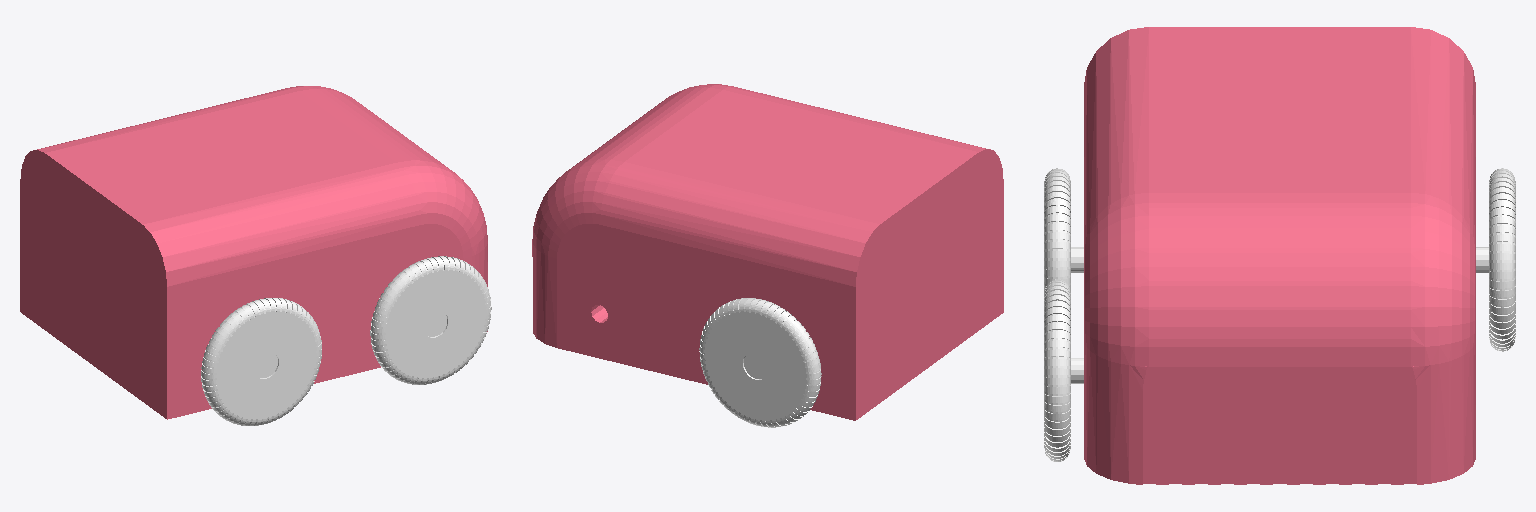
robot.urdf — car:
<?xml version="1.0" encoding="utf-8"?>
<!-- This URDF was automatically created by SolidWorks to URDF Exporter! Originally created by Stephen Brawner (brawner@gmail.com) 
     Commit Version: 1.5.1-0-g916b5db  Build Version: 1.5.7152.31018
     For more information, please see http://wiki.ros.org/sw_urdf_exporter -->
<robot
  name="car">
  <link
    name="base_link">
    <inertial>
      <origin
        xyz="-0.00249943453803799 0.0399999997445289 -0.00222169952839942"
        rpy="0 0 0" />
      <mass
        value="0.0227065289765593" />
      <inertia
        ixx="2.34933598437368E-06"
        ixy="8.78425326495881E-14"
        ixz="7.83844178652788E-08"
        iyy="3.58208725136644E-06"
        iyz="4.30958621134321E-15"
        izz="4.4937142573437E-06" />
    </inertial>
    <visual>
      <origin
        xyz="0 0 0"
        rpy="0 0 0" />
      <geometry>
        <mesh
          filename="package://car/meshes/base_link.STL" />
      </geometry>
      <material
        name="">
        <color
          rgba="1 0.498039215686275 0.607843137254902 1" />
      </material>
    </visual>
    <collision>
      <origin
        xyz="0 0 0"
        rpy="0 0 0" />
      <geometry>
        <mesh
          filename="package://car/meshes/base_link.STL" />
      </geometry>
    </collision>
  </link>
  <link
    name="wheel_fl">
    <inertial>
      <origin
        xyz="-2.34524812764425E-11 -2.75173639163045E-07 0.00581344851870749"
        rpy="0 0 0" />
      <mass
        value="0.000301526530521617" />
      <inertia
        ixx="3.6039936402072E-09"
        ixy="-1.52160111633009E-20"
        ixz="4.51029933620484E-20"
        iyy="3.60399355257099E-09"
        iyz="1.54764413864999E-14"
        izz="6.60047728637718E-09" />
    </inertial>
    <visual>
      <origin
        xyz="0 0 0"
        rpy="0 0 0" />
      <geometry>
        <mesh
          filename="package://car/meshes/wheel_fl.STL" />
      </geometry>
      <material
        name="">
        <color
          rgba="1 1 1 1" />
      </material>
    </visual>
    <collision>
      <origin
        xyz="0 0 0"
        rpy="0 0 0" />
      <geometry>
        <mesh
          filename="package://car/meshes/wheel_fl.STL" />
      </geometry>
    </collision>
  </link>
  <joint
    name="joint_1"
    type="continuous">
    <origin
      xyz="0.00814423436974416 0.051 -0.00687734430037481"
      rpy="1.5707963267949 0 3.14159265358979" />
    <parent
      link="base_link" />
    <child
      link="wheel_fl" />
    <axis
      xyz="0 0 1" />
  </joint>
  <link
    name="wheel_fr">
    <inertial>
      <origin
        xyz="-2.24263194820162E-11 -2.75173585173247E-07 -0.00118655148151145"
        rpy="0 0 0" />
      <mass
        value="0.00030152653049208" />
      <inertia
        ixx="3.60399364023472E-09"
        ixy="-1.89077202911312E-20"
        ixz="9.25586366517323E-20"
        iyy="3.60399355036534E-09"
        iyz="1.54764397084946E-14"
        izz="6.60047728396979E-09" />
    </inertial>
    <visual>
      <origin
        xyz="0 0 0"
        rpy="0 0 0" />
      <geometry>
        <mesh
          filename="package://car/meshes/wheel_fr.STL" />
      </geometry>
      <material
        name="">
        <color
          rgba="1 1 1 1" />
      </material>
    </visual>
    <collision>
      <origin
        xyz="0 0 0"
        rpy="0 0 0" />
      <geometry>
        <mesh
          filename="package://car/meshes/wheel_fr.STL" />
      </geometry>
    </collision>
  </link>
  <joint
    name="joint_2"
    type="continuous">
    <origin
      xyz="0.00814423436974416 0.022 -0.0068773443003748"
      rpy="1.5707963267949 -1.5215275673287 0" />
    <parent
      link="base_link" />
    <child
      link="wheel_fr" />
    <axis
      xyz="0 0 1" />
  </joint>
  <link
    name="wheel_rl">
    <inertial>
      <origin
        xyz="-2.34524847458895E-11 -2.75173639166515E-07 0.0058134485187075"
        rpy="0 0 0" />
      <mass
        value="0.000301526530521617" />
      <inertia
        ixx="3.60399364020719E-09"
        ixy="-1.52188855738831E-20"
        ixz="4.51031509418622E-20"
        iyy="3.60399355257099E-09"
        iyz="1.54764413864277E-14"
        izz="6.60047728637718E-09" />
    </inertial>
    <visual>
      <origin
        xyz="0 0 0"
        rpy="0 0 0" />
      <geometry>
        <mesh
          filename="package://car/meshes/wheel_rl.STL" />
      </geometry>
      <material
        name="">
        <color
          rgba="1 1 1 1" />
      </material>
    </visual>
    <collision>
      <origin
        xyz="0 0 0"
        rpy="0 0 0" />
      <geometry>
        <mesh
          filename="package://car/meshes/wheel_rl.STL" />
      </geometry>
    </collision>
  </link>
  <joint
    name="joint_3"
    type="continuous">
    <origin
      xyz="-0.0118557656302558 0.051 -0.00687734430037481"
      rpy="1.5707963267949 0 3.14159265358979" />
    <parent
      link="base_link" />
    <child
      link="wheel_rl" />
    <axis
      xyz="0 0 1" />
  </joint>
  <link
    name="wheel_rr">
    <inertial>
      <origin
        xyz="-2.24229749351545E-11 -2.75173634564294E-07 -0.00118655148150121"
        rpy="0 0 0" />
      <mass
        value="0.000301526530493677" />
      <inertia
        ixx="3.60399364034364E-09"
        ixy="-1.91211070397758E-20"
        ixz="9.27020615797781E-20"
        iyy="3.60399355035177E-09"
        iyz="1.54764375924157E-14"
        izz="6.60047728407606E-09" />
    </inertial>
    <visual>
      <origin
        xyz="0 0 0"
        rpy="0 0 0" />
      <geometry>
        <mesh
          filename="package://car/meshes/wheel_rr.STL" />
      </geometry>
      <material
        name="">
        <color
          rgba="1 1 1 1" />
      </material>
    </visual>
    <collision>
      <origin
        xyz="0 0 0"
        rpy="0 0 0" />
      <geometry>
        <mesh
          filename="package://car/meshes/wheel_rr.STL" />
      </geometry>
    </collision>
  </link>
  <joint
    name="joint_4"
    type="continuous">
    <origin
      xyz="-0.0118557656302558 0.022 -0.0068773443003748"
      rpy="1.5707963267949 0.39309481042652 0" />
    <parent
      link="base_link" />
    <child
      link="wheel_rr" />
    <axis
      xyz="0 0 1" />
  </joint>
</robot>

--- Render facts (derived) ---
3 views of the same robot in one strip: view 1: azimuth 30°, elevation 25°; view 2: azimuth 150°, elevation 25°; view 3: azimuth 270°, elevation 25° (orthographic).
Model car with 5 links and 4 joints (4 continuous), rooted at base_link, posed every joint at zero.
Links seen in each view (by area): view 1: base_link, wheel_fr, wheel_rr; view 2: base_link, wheel_rl; view 3: base_link, wheel_rl, wheel_fr, wheel_rr.
Link boxes in pixels (x1=…): base_link: x1=20, y1=86, x2=487, y2=419; wheel_fr: x1=370, y1=256, x2=491, y2=384; wheel_rr: x1=201, y1=298, x2=321, y2=425; base_link: x1=532, y1=84, x2=1003, y2=420; wheel_rl: x1=699, y1=298, x2=821, y2=427; base_link: x1=1084, y1=27, x2=1475, y2=484; wheel_rl: x1=1476, y1=168, x2=1515, y2=351; wheel_fr: x1=1044, y1=279, x2=1083, y2=461; wheel_rr: x1=1044, y1=168, x2=1083, y2=291.
Size in the robot's own frame: 0.04 by 0.036 by 0.022 metres.
Meshes: 5 distinct files referenced, 4 mesh visuals loaded (4 binary STL); not drawn: 1 (reference not matched to a file when rendering).
